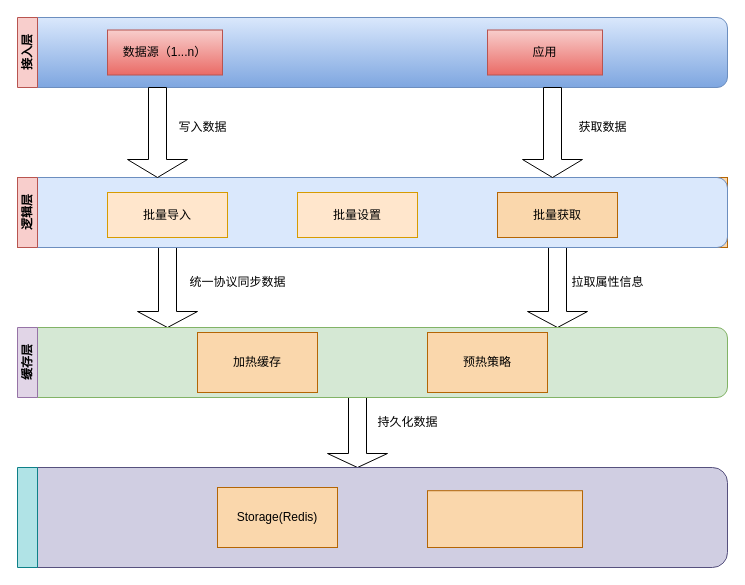
Some shapes in this 745 by 585 pixel diagram are drawn without their labels. The box of each missing label's shape, as (x1, y1, x2, y2) in pixels:
Storage(ElasticSearch): (426, 490, 582, 548)
持久层: (16, 466, 38, 568)
